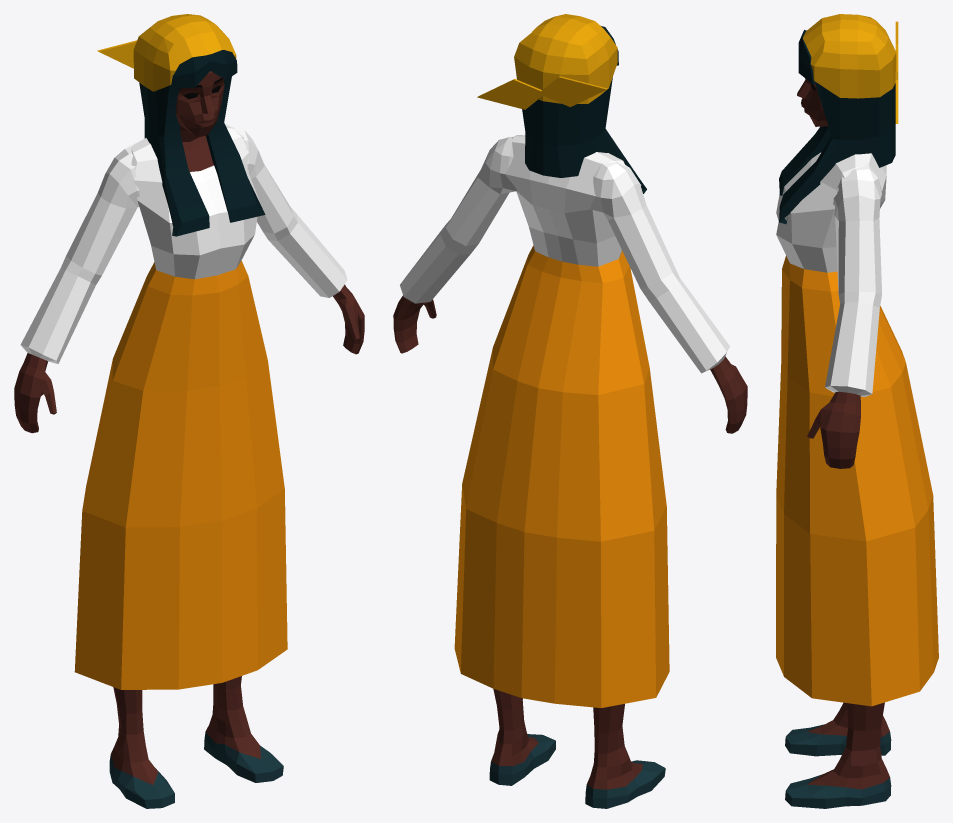
File: Female_01.FBX
The picture shows the model from 3 angles, left to right: view 1: azimuth 30°, elevation 25°; view 2: azimuth 150°, elevation 25°; view 3: azimuth 270°, elevation 25°; orthographic projection.
Parts seen in each view (by area): view 1: Female_01; view 2: Female_01; view 3: Female_01.
Boxes of the visible parts, x1,y1,x2,y2 form: Female_01: (14,14,364,808); Female_01: (393,14,747,808); Female_01: (776,14,938,808).
Size of the model in its own units: 0.8204 by 1.73 by 0.3384.
1 material, 1 textured.
